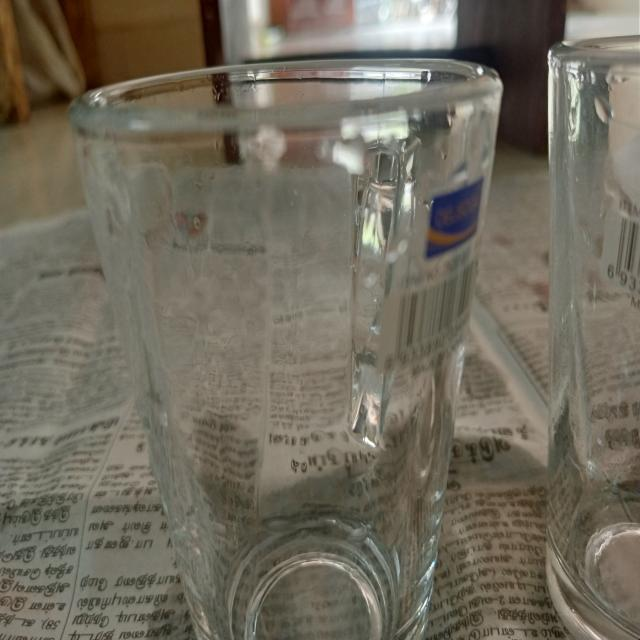glass-VX4N: (69, 56, 503, 640), (547, 28, 640, 640)
